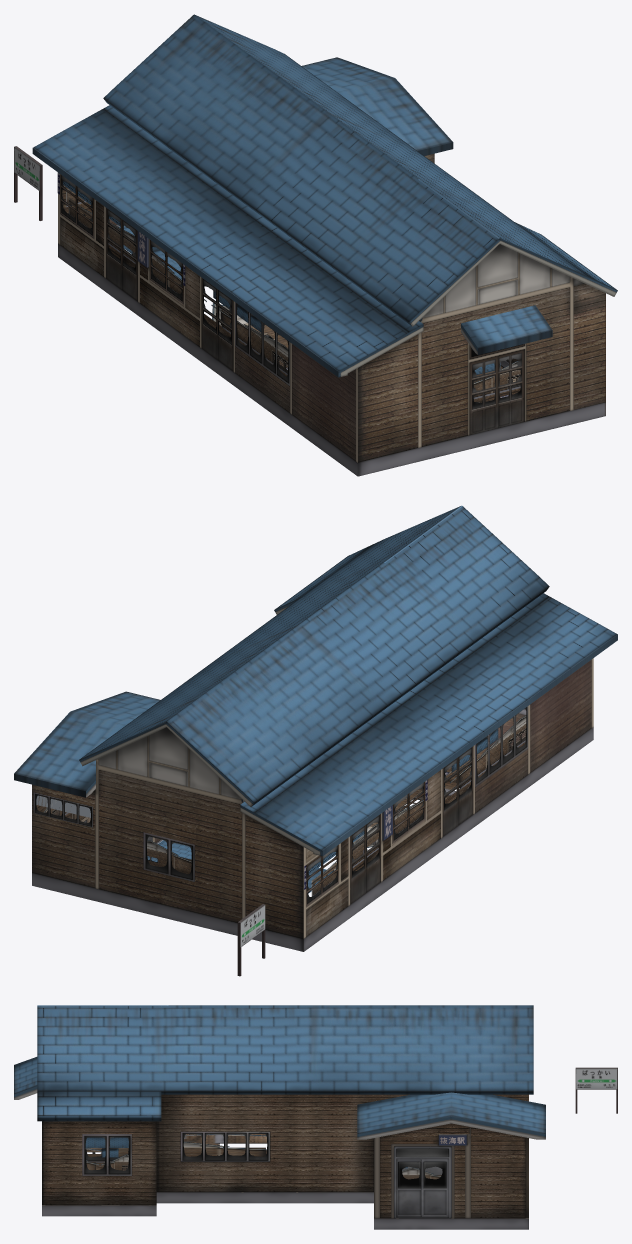
The model's file is pernah ga lo ke jepang.fbx.
3 renders of one model, top to bottom at view 1: azimuth 30°, elevation 25°; view 2: azimuth 150°, elevation 25°; view 3: azimuth 270°, elevation 25°, orthographic. The views are drawn at different scales.
Parts seen in each view (by area): view 1: _2.004; view 2: _2.004; view 3: _2.004.
Part boxes in pixels (bbox=[...]): _2.004: bbox=[14, 14, 617, 476]; _2.004: bbox=[14, 505, 617, 976]; _2.004: bbox=[14, 1005, 617, 1229].
Size of the model in its own units: 943 by 597 by 1947.
